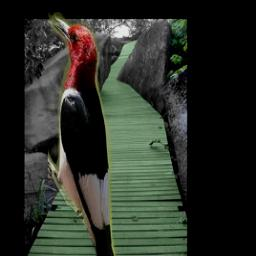Woodpecker: (48, 12, 122, 256)
